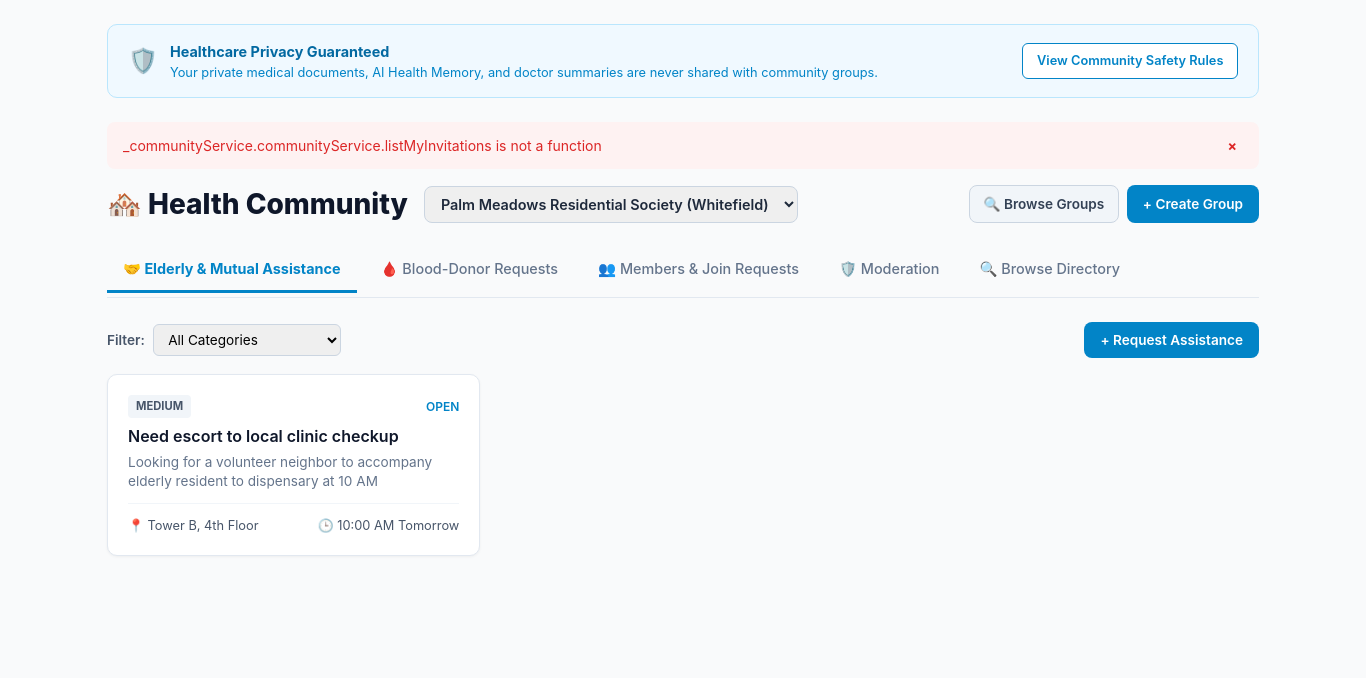
Scenario: Phase 8 — Community Dashboard UI › opens Create Assistance Request modal
The image size is (1366, 678).
Click the button "+ Request Assistance" at [1172, 340], box [1084,322,1259,358]
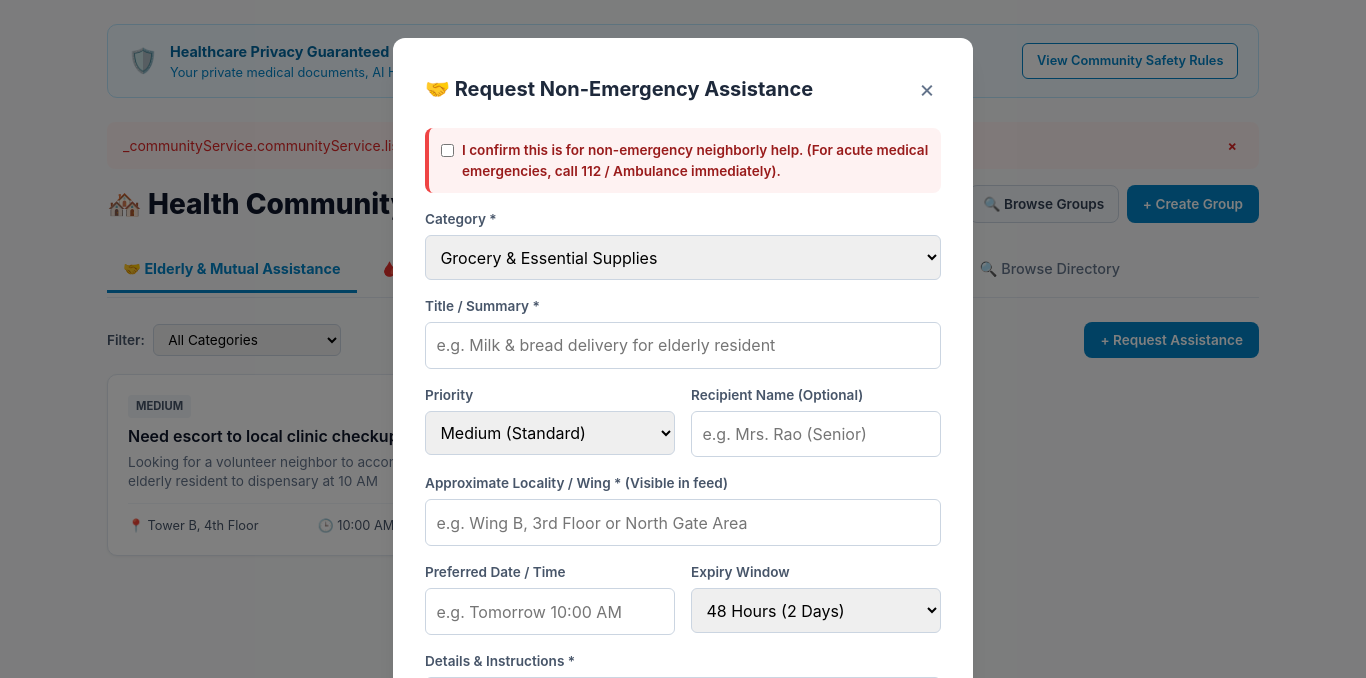
Check: the heading "🤝 Request Non-Emergency Assistance" is shown, box [425,77,813,102]
Check: the text "Category *" is shown, box [425,211,497,227]
Check: the text "Title / Summary *" is shown, box [425,298,540,314]
